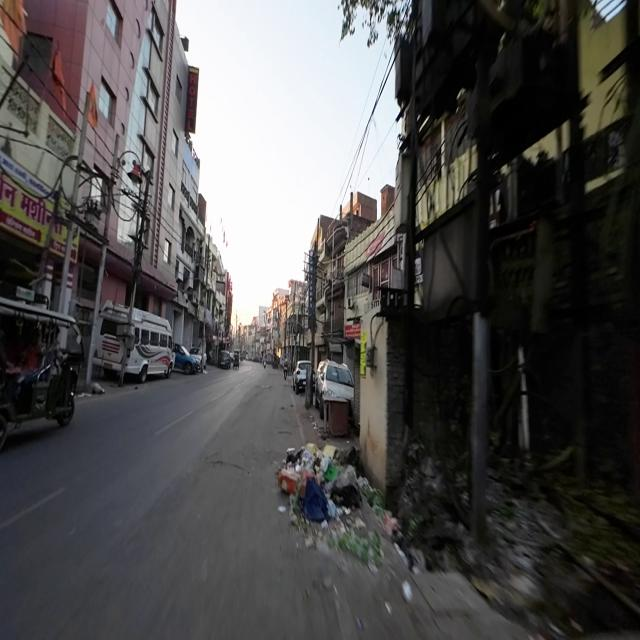Garbage: (279, 440, 358, 523), (322, 526, 386, 563)
